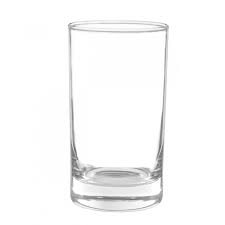glass: (65, 16, 173, 217)
